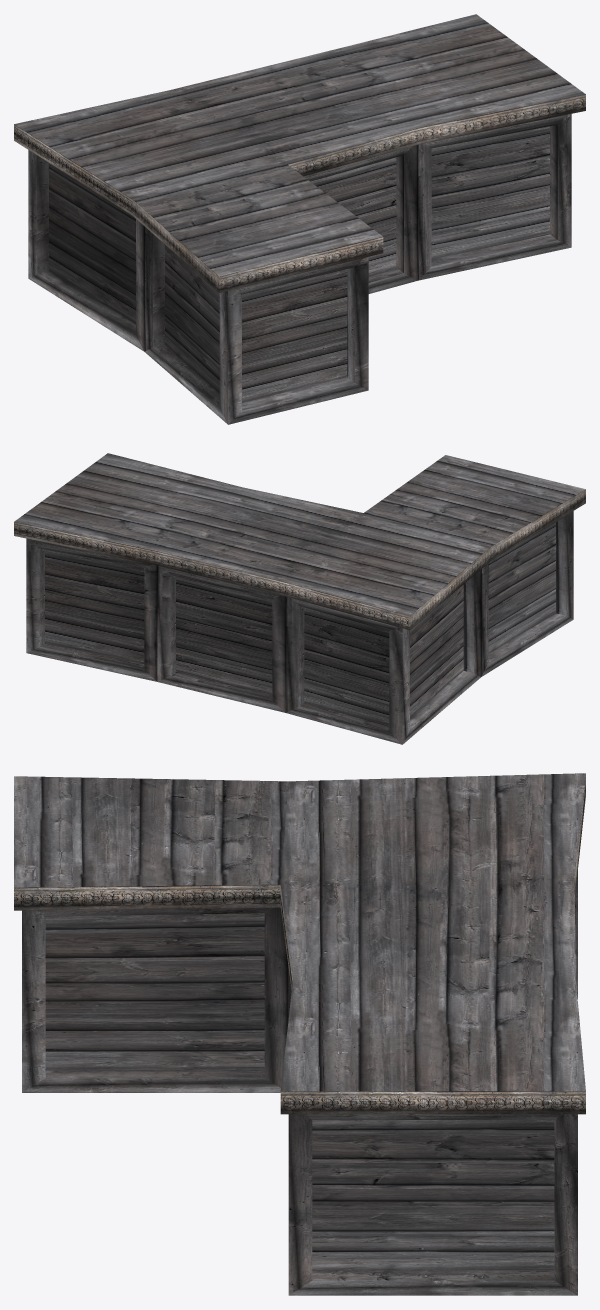
File: tavern_bar.fbx
3 views of the same model, one above another, from view 1: azimuth 30°, elevation 25°; view 2: azimuth 150°, elevation 25°; view 3: azimuth 270°, elevation 25° (orthographic). The views are drawn at different scales.
Visible parts, largest first — view 1: Default_Layer; view 2: Default_Layer; view 3: Default_Layer.
Part boxes in pixels (x1,y1,x2,y2): Default_Layer: [14, 14, 585, 424]; Default_Layer: [14, 453, 585, 744]; Default_Layer: [14, 773, 585, 1295].
Bounding box in the file's own units: 826 × 265 × 636.
1 material, 1 textured.
